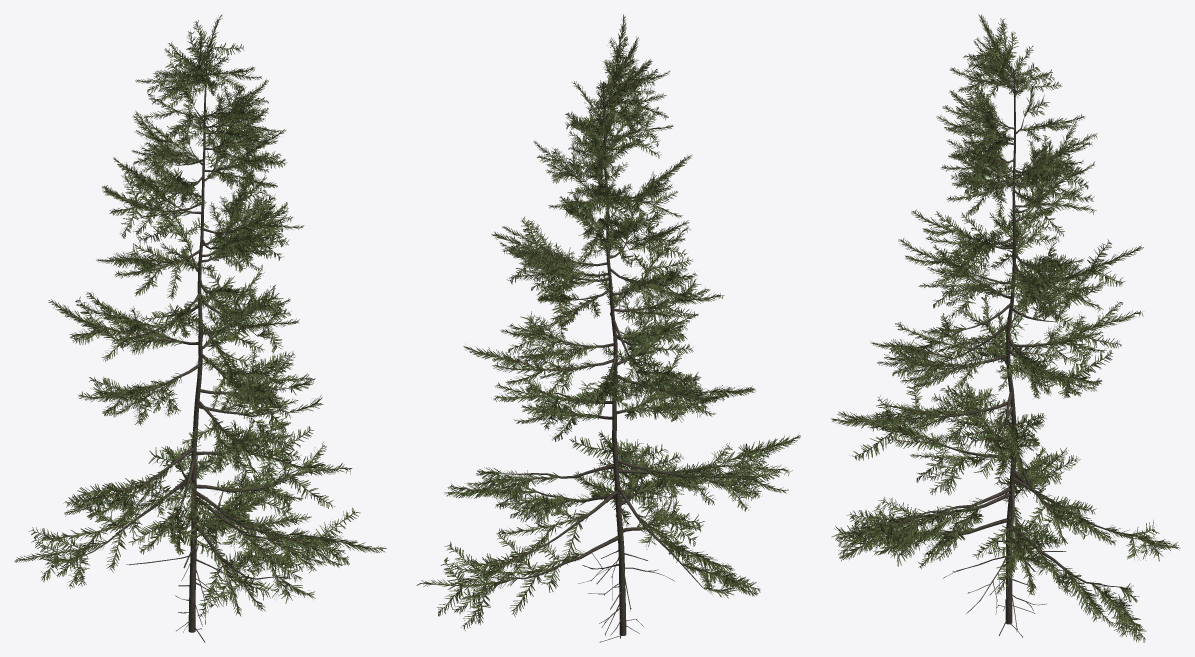
File: grounded-conifer-source.glb
The picture shows the model from 3 angles, left to right: view 1: azimuth 30°, elevation 25°; view 2: azimuth 150°, elevation 25°; view 3: azimuth 270°, elevation 25°; orthographic projection. The views are drawn at different scales.
Parts seen in each view (by area): view 1: grounded-conifer-source runtime mesh; view 2: grounded-conifer-source runtime mesh; view 3: grounded-conifer-source runtime mesh.
Boxes of the visible parts, left/top/right/bottom form: grounded-conifer-source runtime mesh: left=14, top=14, right=386, bottom=642; grounded-conifer-source runtime mesh: left=416, top=14, right=800, bottom=642; grounded-conifer-source runtime mesh: left=830, top=14, right=1180, bottom=642.
Bounding box in the file's own units: 3.07 × 5.6 × 2.84.
3 materials, 3 textured.
